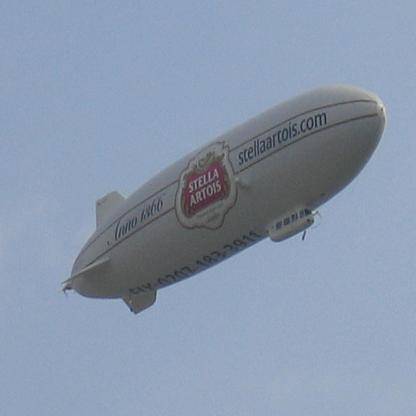Airship: (56, 80, 390, 317)
